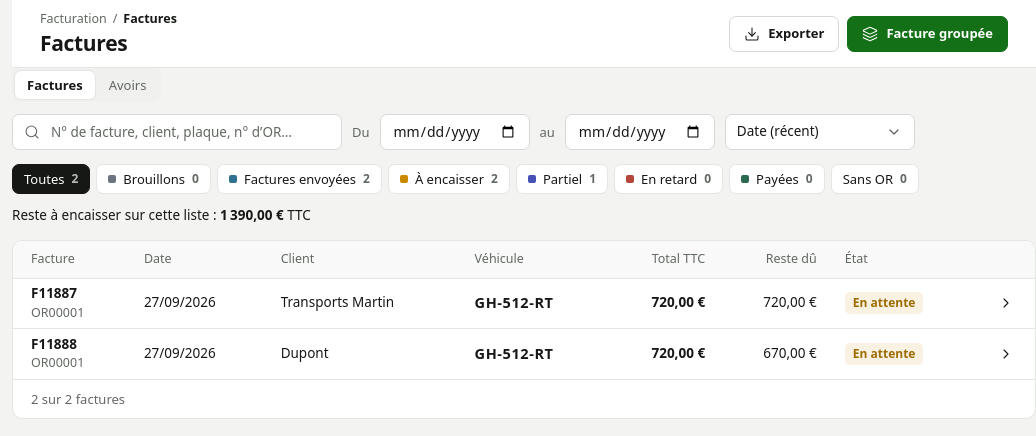
Scenario: liste des factures › « Partiel » : factures émises payées en partie, en retard ou non
Click the button "Partiel 1" at (562, 179), box x1=516 y1=164 x2=608 y2=194
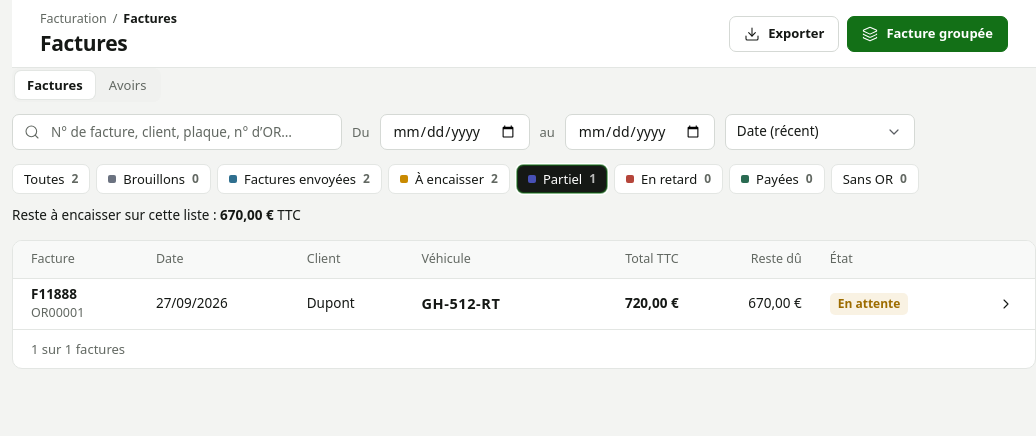
Expected: the text "Dupont" is shown, x1=293 y1=279 x2=408 y2=329
Expected: the text "Transports Martin" is gone
